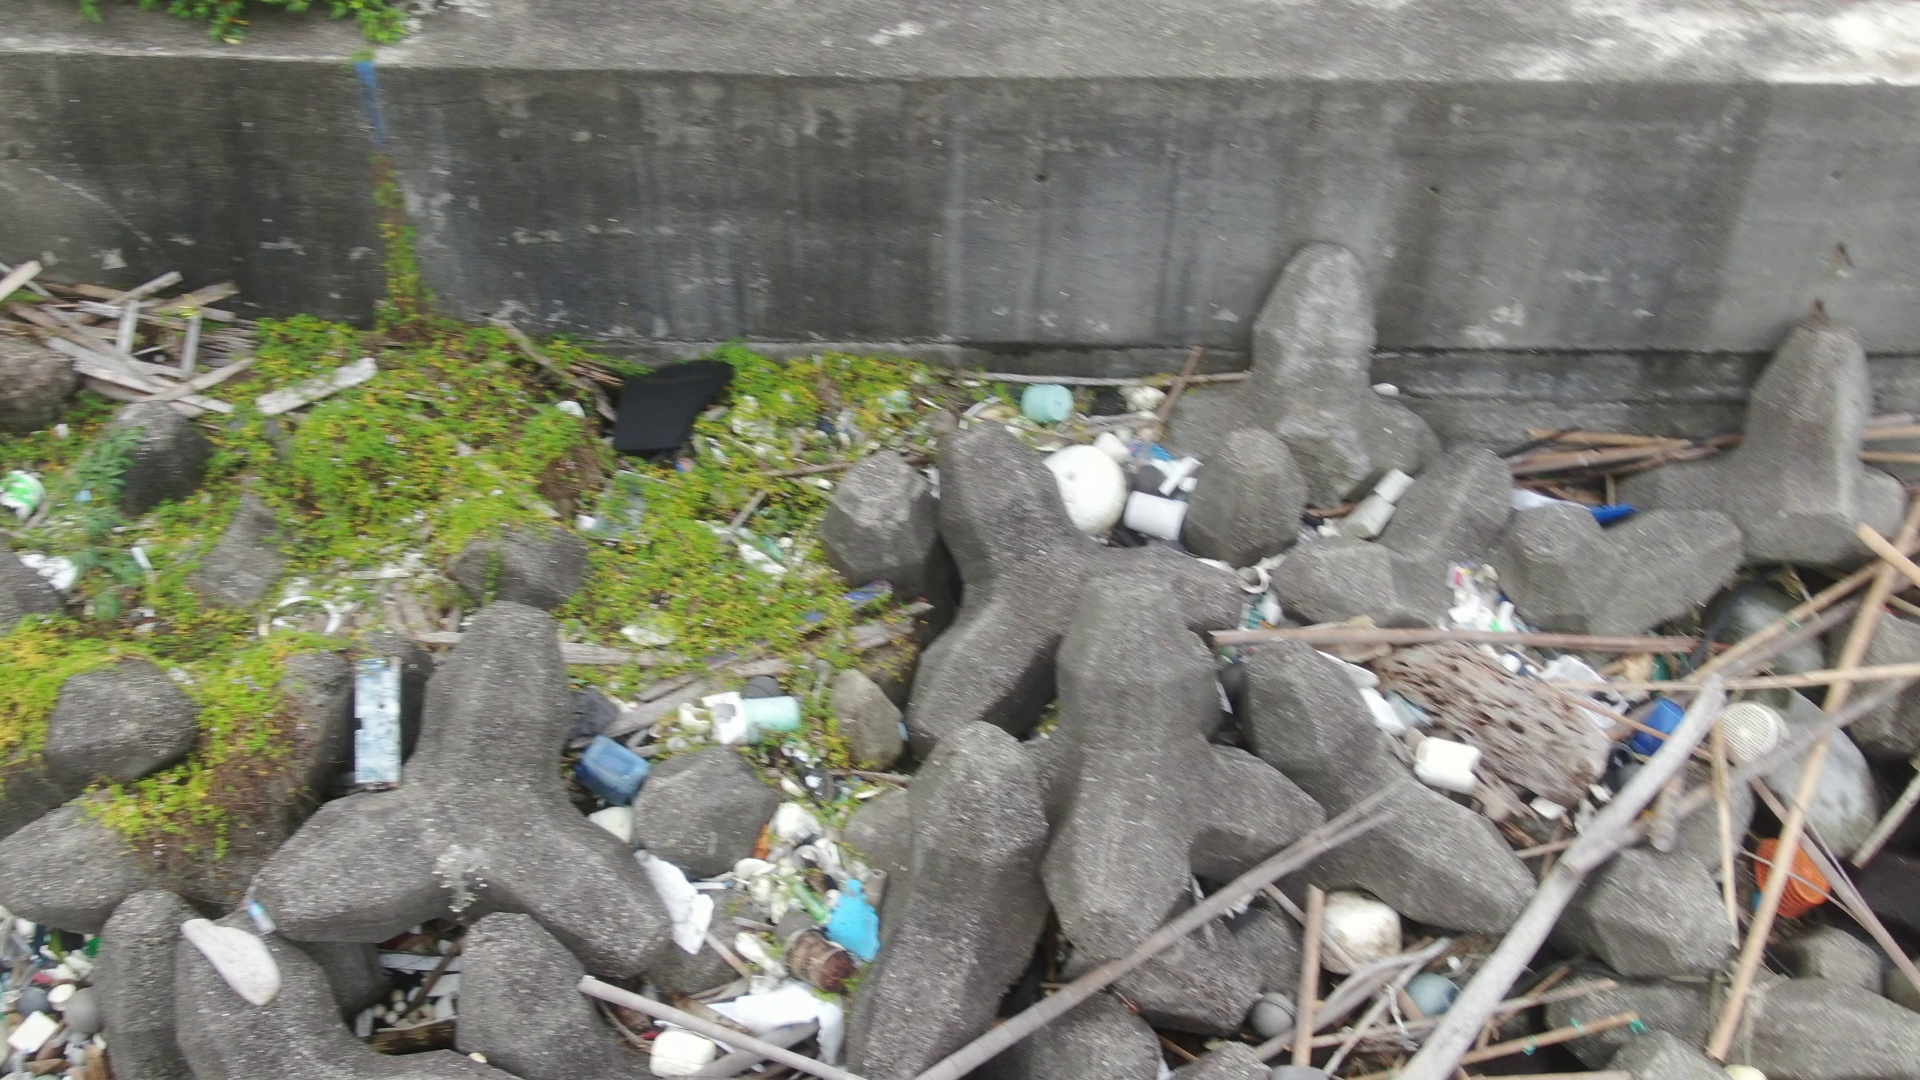garbage: (1350, 568, 1629, 824), (634, 825, 936, 988), (1015, 377, 1211, 554), (564, 972, 872, 1080), (343, 928, 487, 1063), (1, 926, 116, 1080), (1629, 676, 1796, 775), (1287, 870, 1432, 982), (611, 360, 750, 456), (170, 911, 287, 1006), (1317, 467, 1447, 553), (678, 679, 827, 752), (336, 655, 411, 796), (1745, 836, 1844, 934), (1215, 547, 1303, 649), (582, 731, 659, 814), (713, 508, 798, 583), (1, 454, 61, 530), (18, 553, 87, 601), (1582, 498, 1640, 533)
